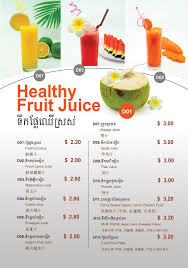not-coke: (134, 4, 186, 72)
